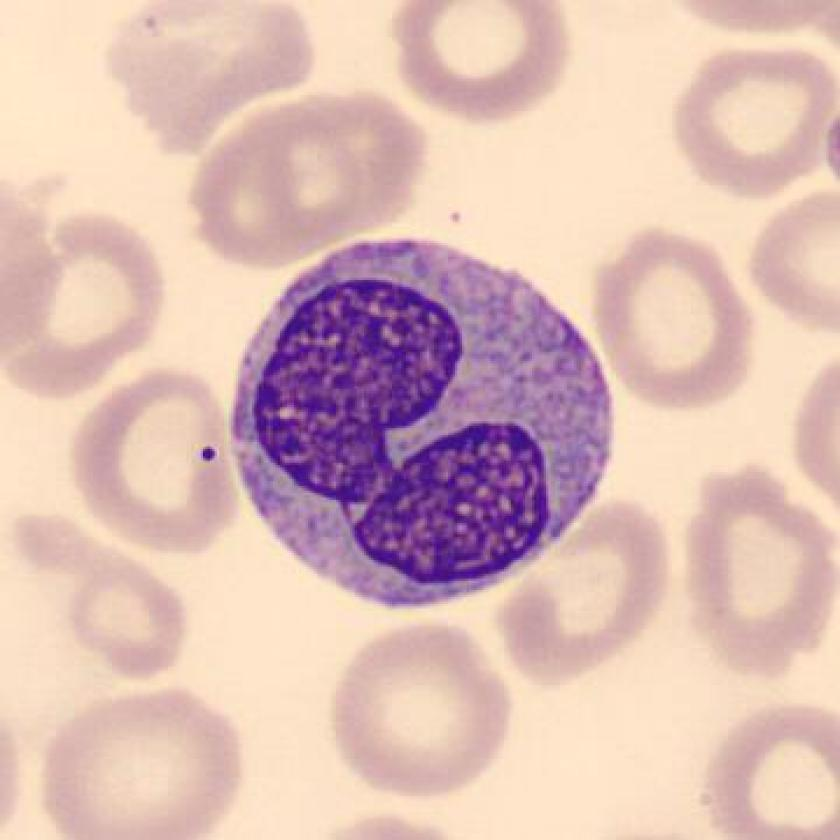monocyte: (216, 218, 636, 626)
